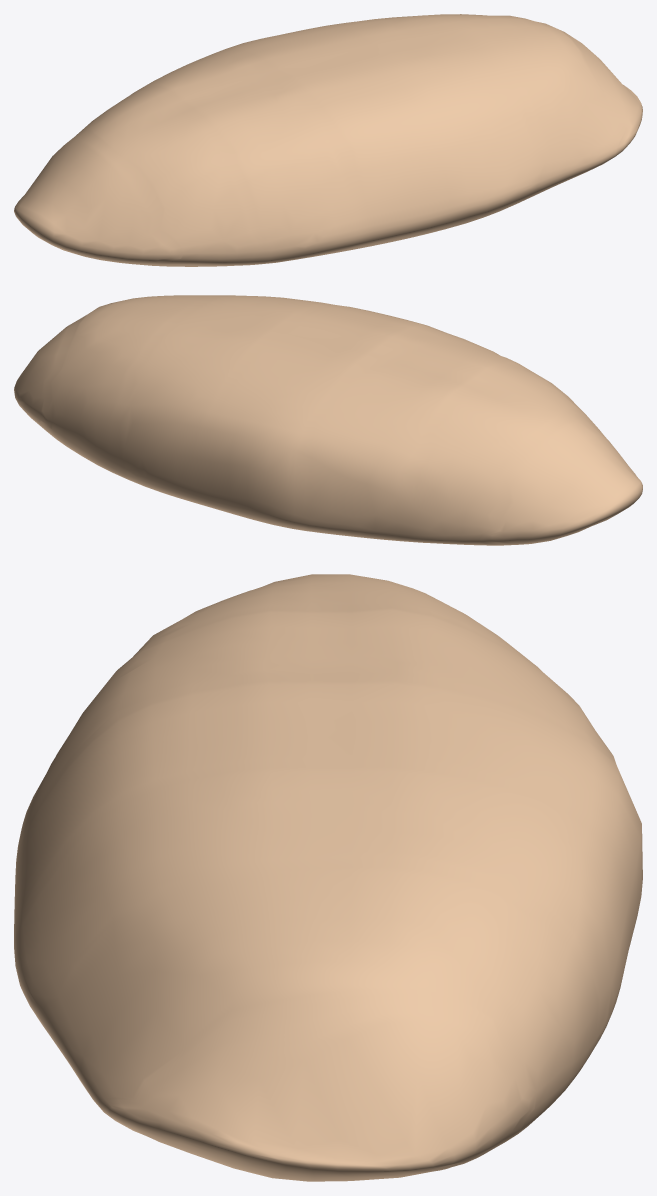
Rendered from cut_chicken.fbx.
3 renders of one model, top to bottom at view 1: azimuth 30°, elevation 25°; view 2: azimuth 150°, elevation 25°; view 3: azimuth 270°, elevation 25°, orthographic. The views are drawn at different scales.
Parts seen in each view (by area): view 1: chicken; view 2: chicken; view 3: chicken.
Part boxes in pixels (x1,y1,x2,y2): chicken: (14,14,642,266); chicken: (14,295,642,545); chicken: (14,574,642,1181).
Bounding box in the file's own units: 312 × 76.22 × 155.
